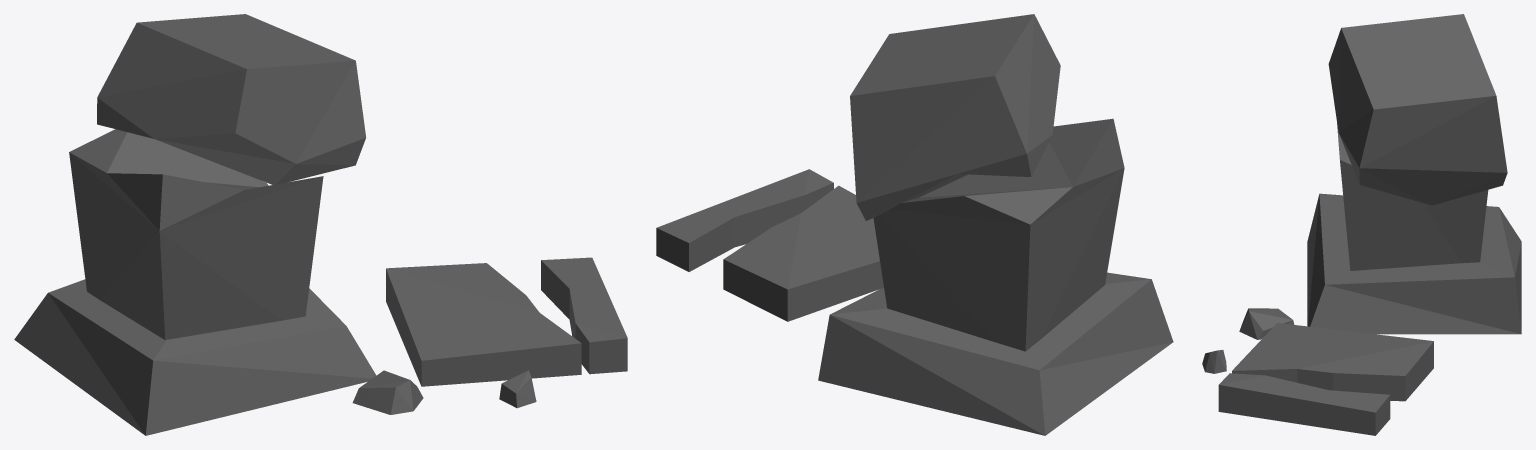
Rendered from Stone_Rail_04.FBX.
3 renders of one model, left to right at view 1: azimuth 30°, elevation 25°; view 2: azimuth 150°, elevation 25°; view 3: azimuth 270°, elevation 25°, orthographic. The views are drawn at different scales.
Parts seen in each view (by area): view 1: Stone_Rail_04; view 2: Stone_Rail_04; view 3: Stone_Rail_04.
Boxes of the visible parts, x1,y1,x2,y2 form: Stone_Rail_04: (14, 14, 627, 435); Stone_Rail_04: (656, 14, 1173, 435); Stone_Rail_04: (1202, 14, 1521, 435).
Bounding box in the file's own units: 2.24 × 1.41 × 1.56.
